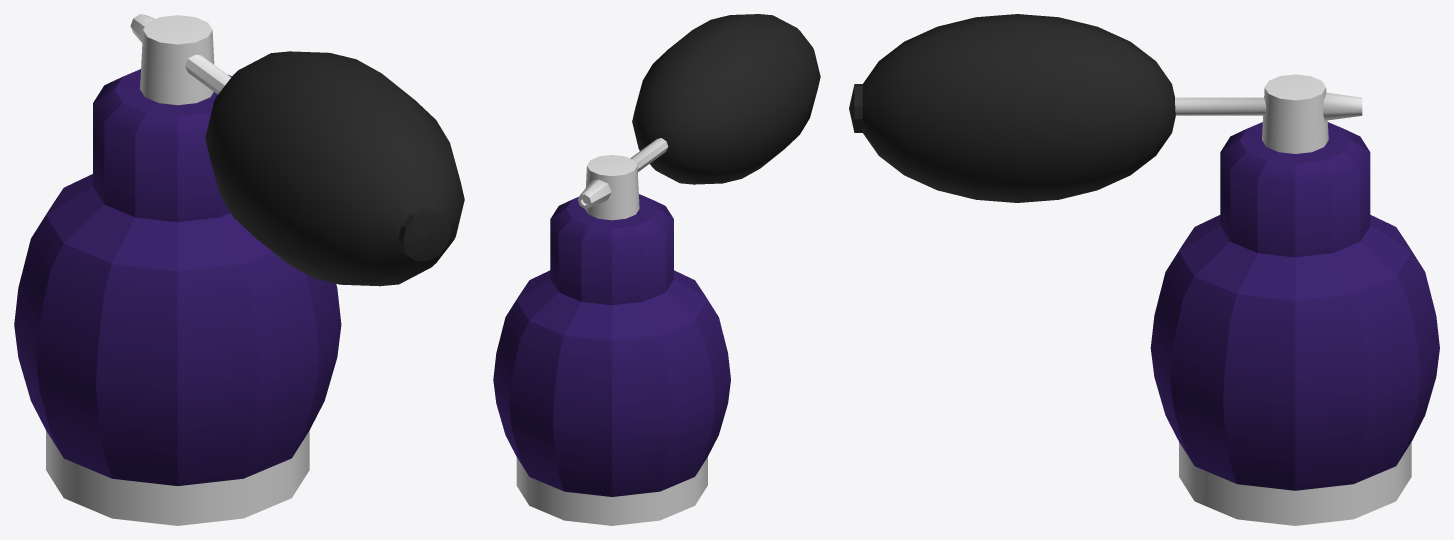
File: Perfume.fbx
3 renders of one model, left to right at view 1: azimuth 30°, elevation 25°; view 2: azimuth 150°, elevation 25°; view 3: azimuth 270°, elevation 25°, orthographic. The views are drawn at different scales.
Visible parts, largest first — view 1: polySurface4; view 2: polySurface4; view 3: polySurface4.
Part boxes in pixels (x1,y1,x2,y2): polySurface4: (14,14,464,525); polySurface4: (493,14,820,525); polySurface4: (849,14,1439,525).
Size of the model in its own units: 7.88 by 13.65 by 16.09.
